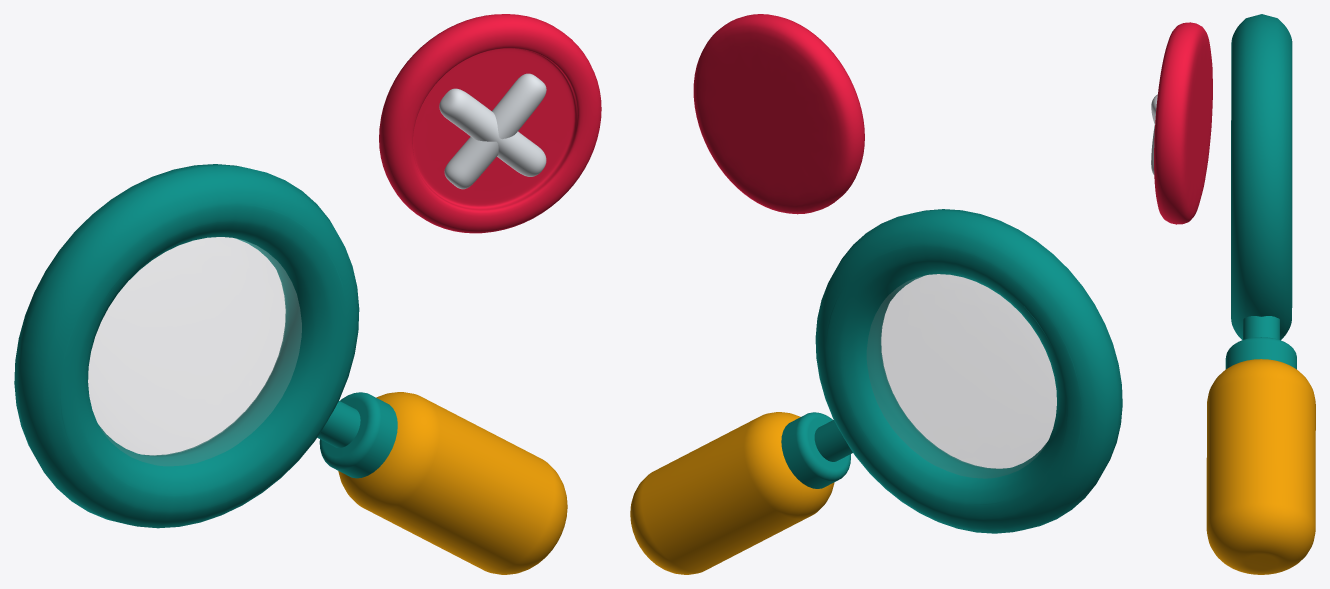
File: empty-search-result-3d-animated-icon-1252305009526.glb
The picture shows the model from 3 angles, left to right: view 1: azimuth 30°, elevation 25°; view 2: azimuth 150°, elevation 25°; view 3: azimuth 270°, elevation 25°; orthographic projection. The views are drawn at different scales.
Parts seen in each view (by area): view 1: Cylinder.001, GLASS, X SIGN.001, MAGNIFIER, X; view 2: Cylinder.001, GLASS, X SIGN.001, MAGNIFIER; view 3: MAGNIFIER, Cylinder.001, X SIGN.001, X.
Part boxes in pixels (x1,y1,x2,y2): Cylinder.001: [14, 164, 397, 528]; GLASS: [88, 237, 301, 465]; X SIGN.001: [379, 14, 601, 233]; MAGNIFIER: [338, 392, 567, 574]; X: [439, 73, 546, 189]; Cylinder.001: [781, 209, 1122, 533]; GLASS: [867, 274, 1056, 478]; X SIGN.001: [693, 14, 864, 214]; MAGNIFIER: [630, 412, 834, 574]; MAGNIFIER: [1206, 359, 1315, 574]; Cylinder.001: [1225, 14, 1296, 369]; X SIGN.001: [1154, 22, 1212, 224]; X: [1151, 94, 1157, 174].
Size of the model in its own units: 0.8247 by 0.8763 by 0.2533.
